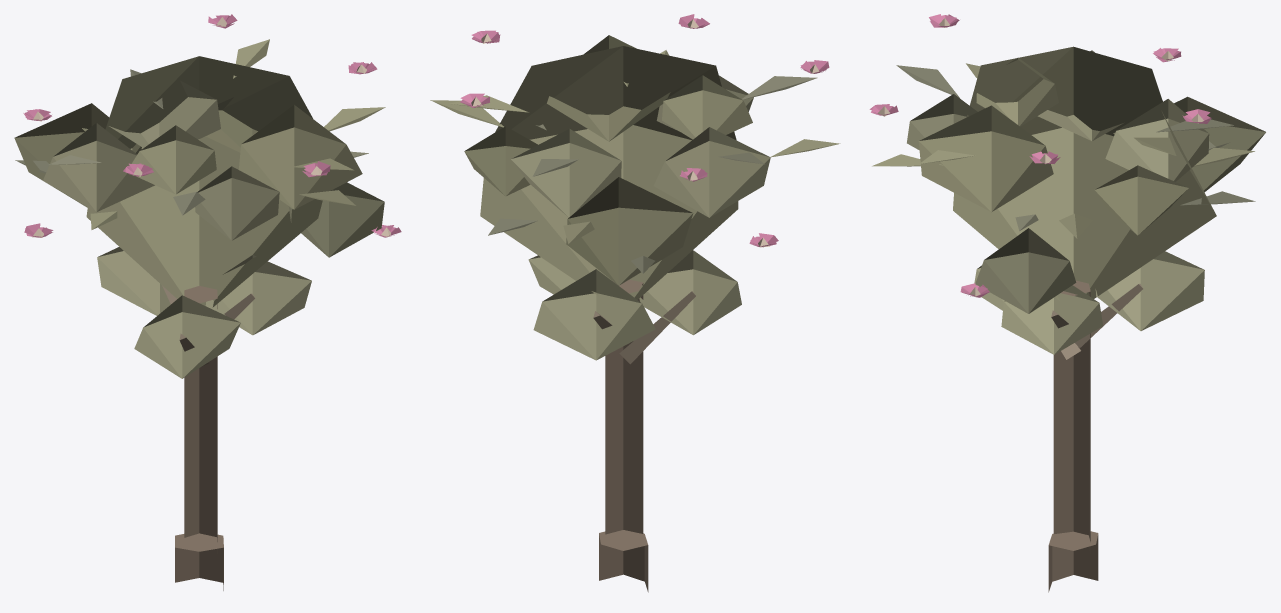
Rendered from shu.yinxing@flowering__winter.glb.
3 views of the same model, side by side, from view 1: azimuth 30°, elevation 25°; view 2: azimuth 150°, elevation 25°; view 3: azimuth 270°, elevation 25° (orthographic).
Visible parts, largest first — view 1: shu.yinxing@flowering__winter; view 2: shu.yinxing@flowering__winter; view 3: shu.yinxing@flowering__winter.
Boxes of the visible parts, bbox=[...] form: shu.yinxing@flowering__winter: bbox=[14, 14, 401, 590]; shu.yinxing@flowering__winter: bbox=[430, 14, 840, 592]; shu.yinxing@flowering__winter: bbox=[869, 14, 1265, 592].
Bounding box in the file's own units: 9.98 × 14.35 × 9.6.
